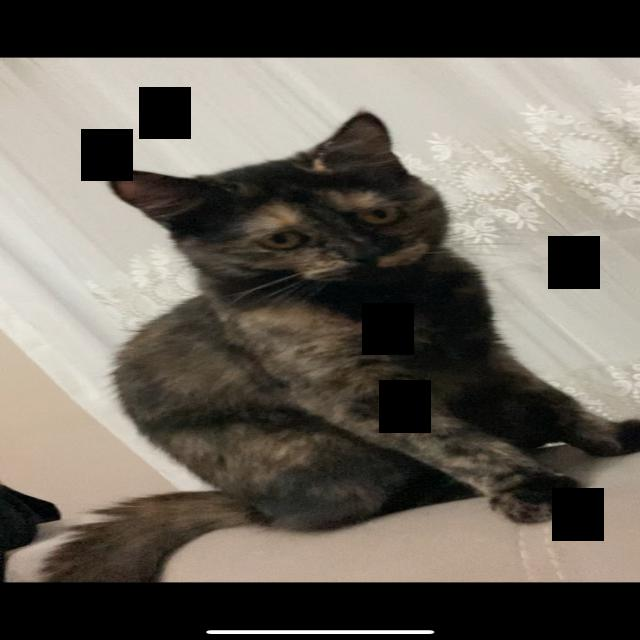authorized: (33, 109, 637, 581)
